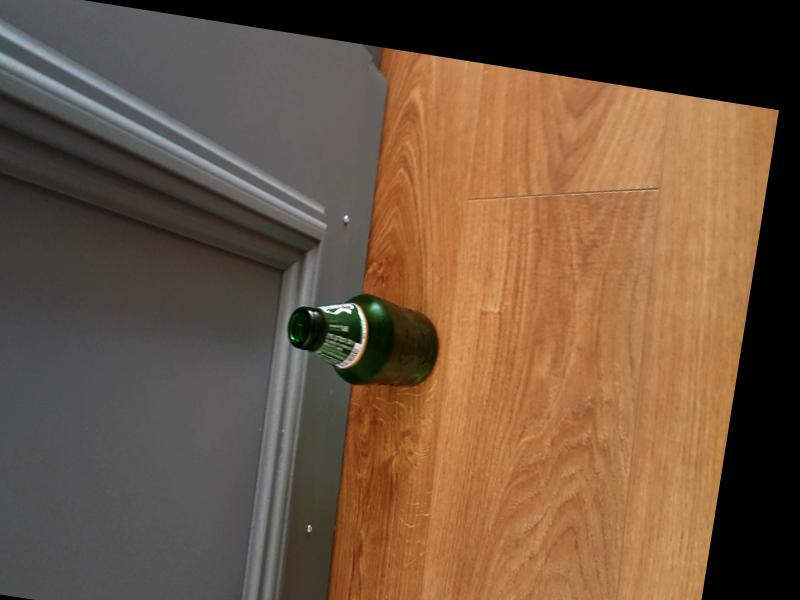Beer: (281, 283, 445, 397)
